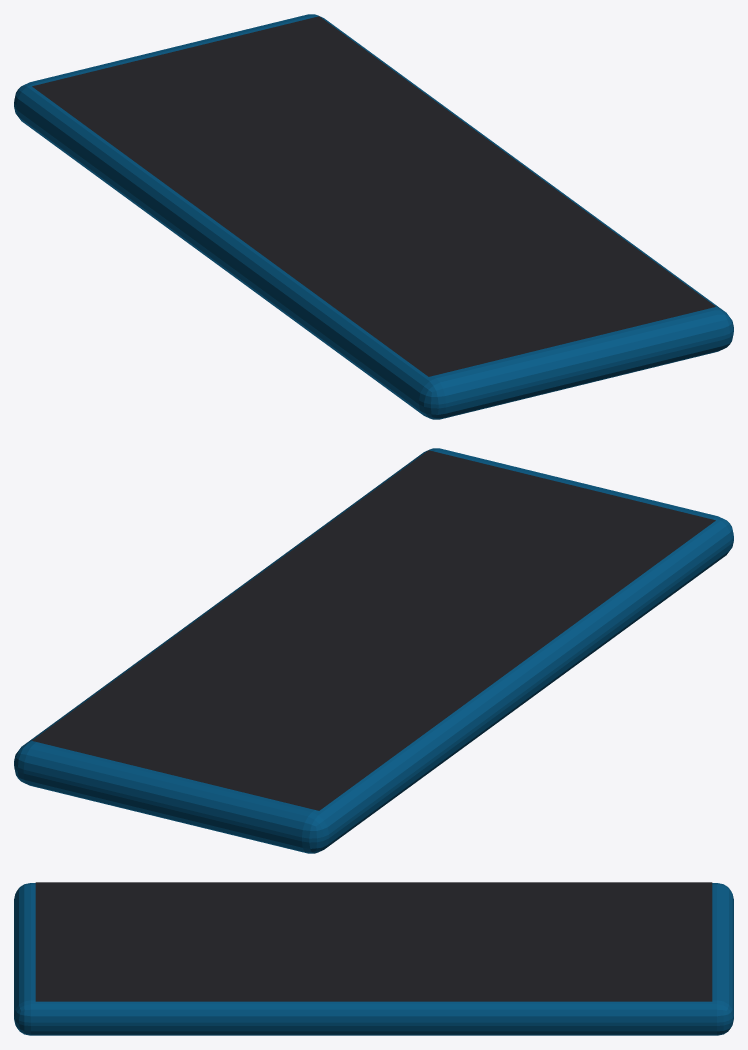
Rendered from Phone_667.glb.
3 views of the same model, one above another, from view 1: azimuth 30°, elevation 25°; view 2: azimuth 150°, elevation 25°; view 3: azimuth 270°, elevation 25° (orthographic). The views are drawn at different scales.
Parts seen in each view (by area): view 1: Phone_Screen, Phone_Body; view 2: Phone_Screen, Phone_Body; view 3: Phone_Screen, Phone_Body.
Part boxes in pixels (left/top/right/bottom): Phone_Screen: left=32, top=16, right=715, bottom=376; Phone_Body: left=14, top=14, right=733, bottom=419; Phone_Screen: left=32, top=450, right=715, bottom=810; Phone_Body: left=14, top=448, right=733, bottom=853; Phone_Screen: left=35, top=882, right=712, bottom=1001; Phone_Body: left=14, top=883, right=733, bottom=1035.
Size of the model in its own units: 0.0722 by 0.0089 by 0.169.
